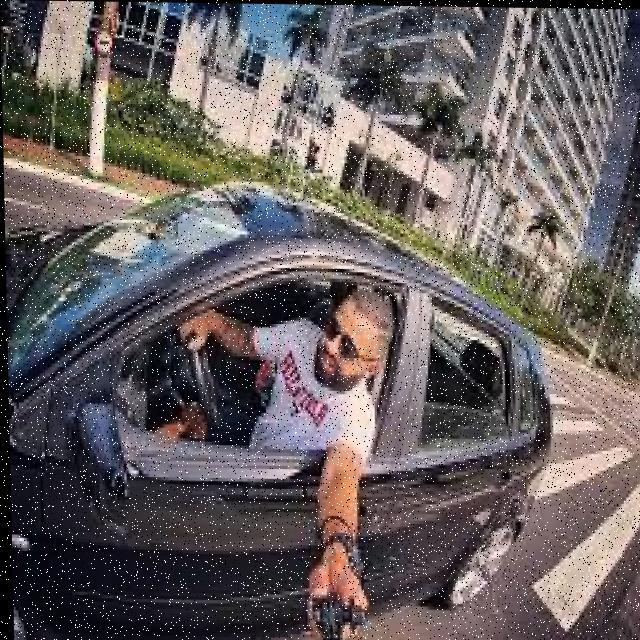noSeatbelt: (238, 318, 380, 472)
